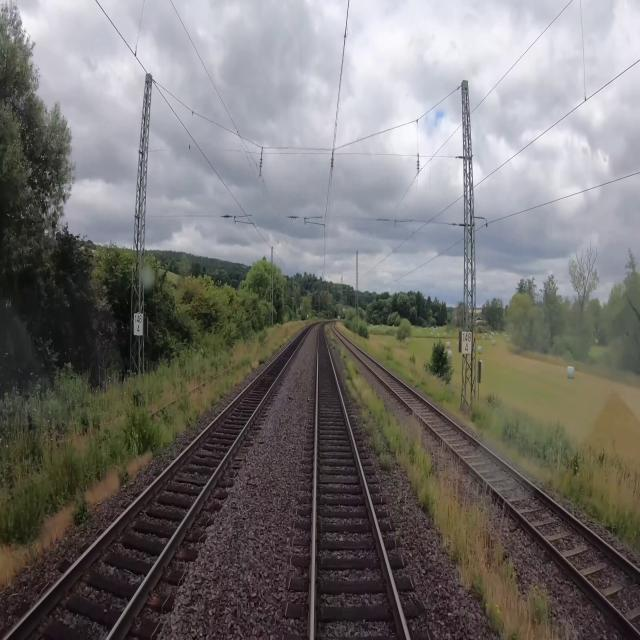Plant: (339, 346, 552, 639), (378, 454, 391, 469)
